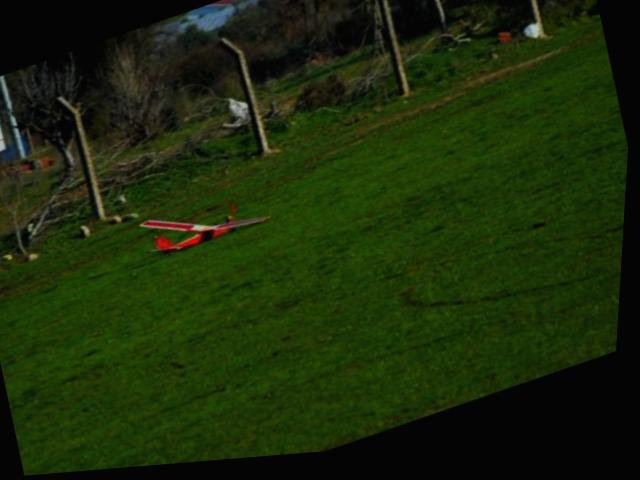iha: (130, 177, 281, 274)
